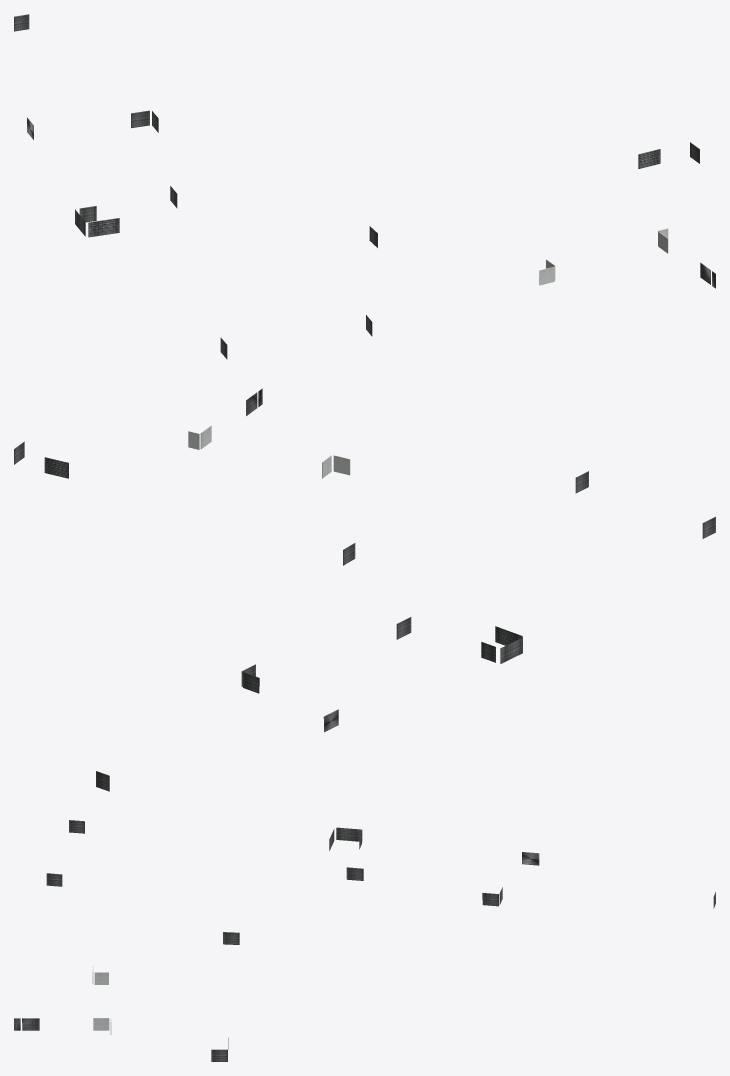
File: dfzmShutterDraco-opt.glb
3 views of the same model, one above another, from view 1: azimuth 30°, elevation 25°; view 2: azimuth 150°, elevation 25°; view 3: azimuth 270°, elevation 25° (orthographic). The views are drawn at different scales.
Parts seen in each view (by area): view 1: line1-hall-shutter-steelPipe-2-3, line3-hall-shutter-white-7-1; view 2: line1-hall-shutter-steelPipe-2-3, line3-hall-shutter-white-7-1; view 3: line1-hall-shutter-steelPipe-2-3, line3-hall-shutter-white-7-1.
Part boxes in pixels (x1=…): line1-hall-shutter-steelPipe-2-3: x1=14, y1=14, x2=715, y2=359; line3-hall-shutter-white-7-1: x1=539, y1=228, x2=668, y2=285; line1-hall-shutter-steelPipe-2-3: x1=14, y1=388, x2=715, y2=791; line3-hall-shutter-white-7-1: x1=188, y1=425, x2=350, y2=478; line1-hall-shutter-steelPipe-2-3: x1=14, y1=820, x2=715, y2=1061; line3-hall-shutter-white-7-1: x1=92, y1=966, x2=111, y2=1034.
Bounding box in the file's own units: 194 × 10.39 × 254.
2 materials, 2 textured.
